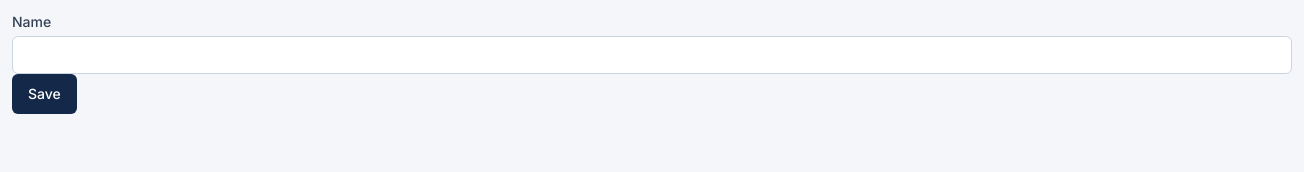
Test: react-hook-form + zod validation › shows helpful errors and submits valid data
Later steps or results of the test are not shown.
Type "A" into the field labelled "Name".
click(652, 55); type("A")  # box [12,36,1292,74]
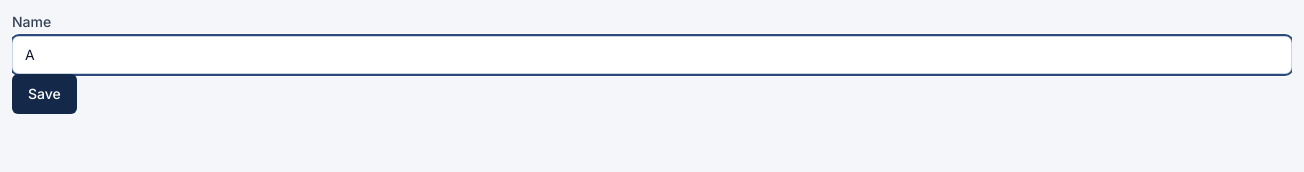
Click the button "Save".
click(44, 94)  # box [12,74,77,114]
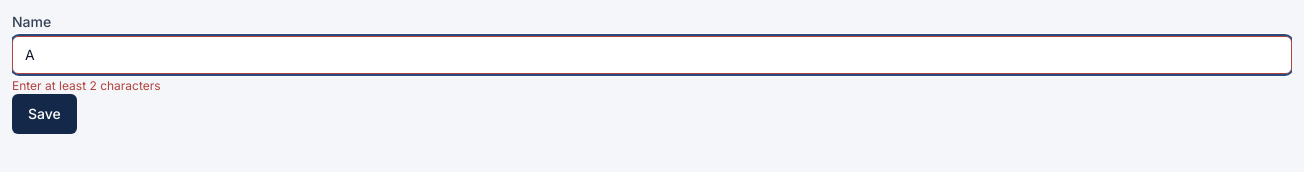
Now the message shows "at least 2", box [12,78,161,93]
